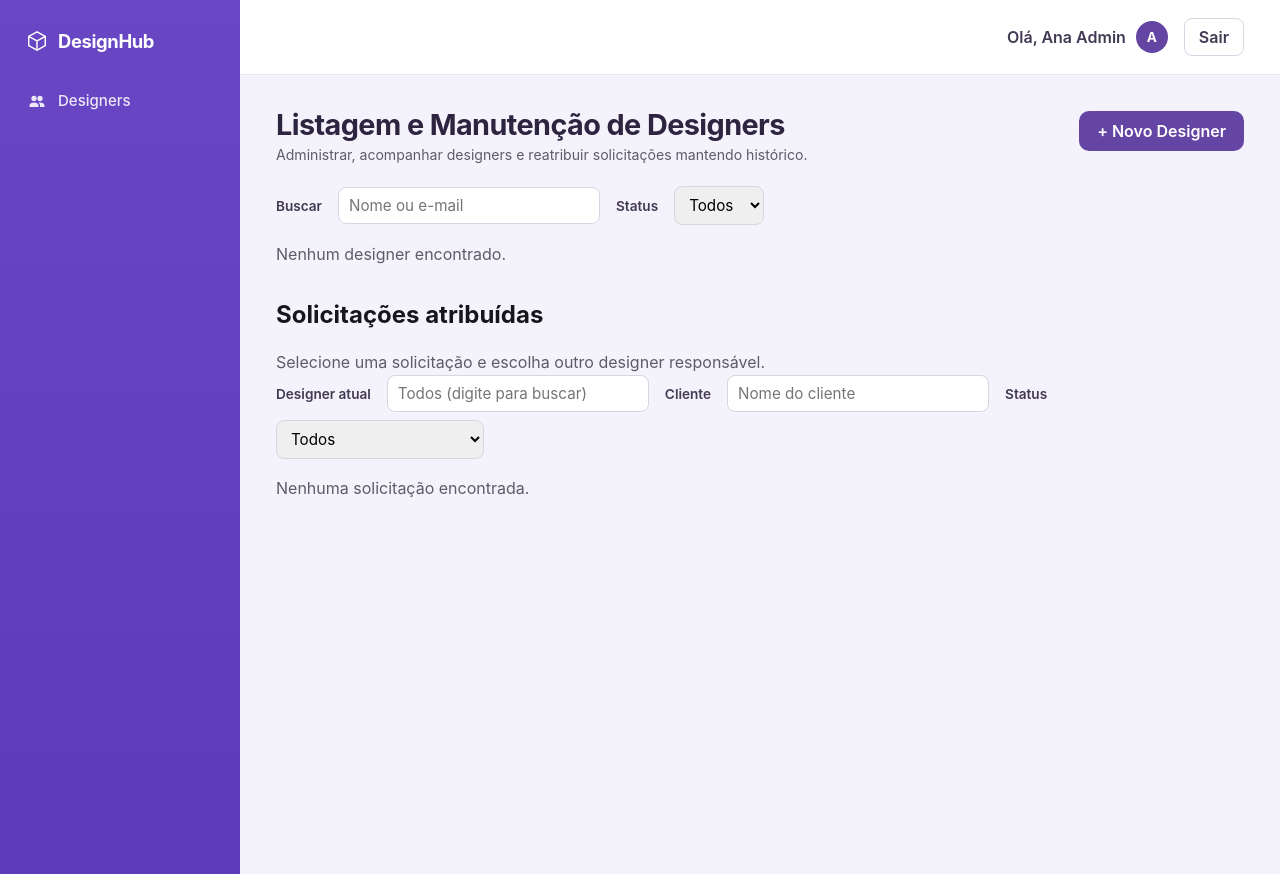
DesignersPage (RF001/RF015) › rejeita a criação quando a confirmação de senha não coincide (FIGURA 28)
Expected: the text "Nenhum designer encontrado." is shown, [276, 244, 506, 264]
Click the button "+ Novo Designer" at (1162, 131), box [1079, 111, 1244, 151]
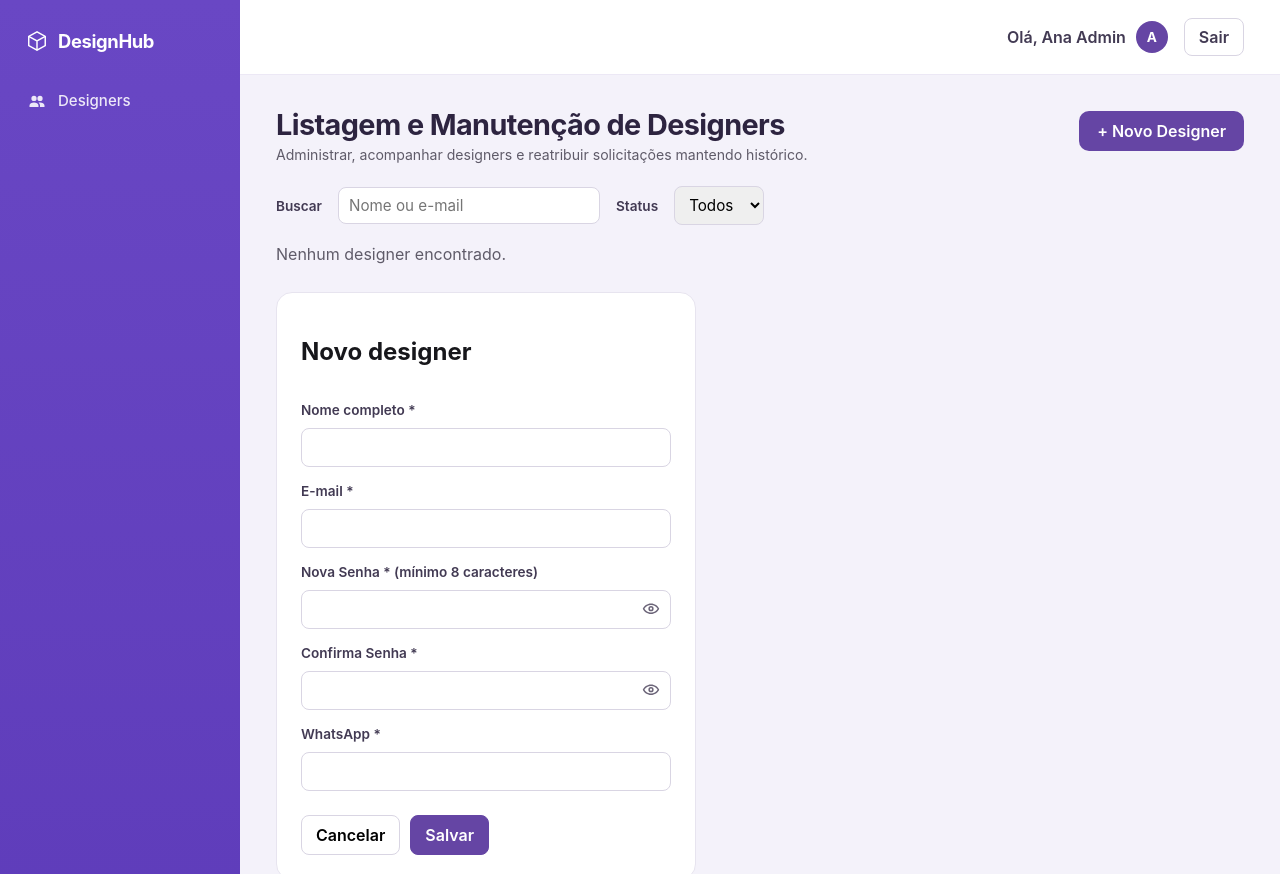
Type "Dora Designer" into the field labelled "Nome completo *" at (486, 447), box [301, 428, 671, 467]
Type "dora@exemplo.com" into the field labelled "E-mail *" at (486, 528), box [301, 509, 671, 548]
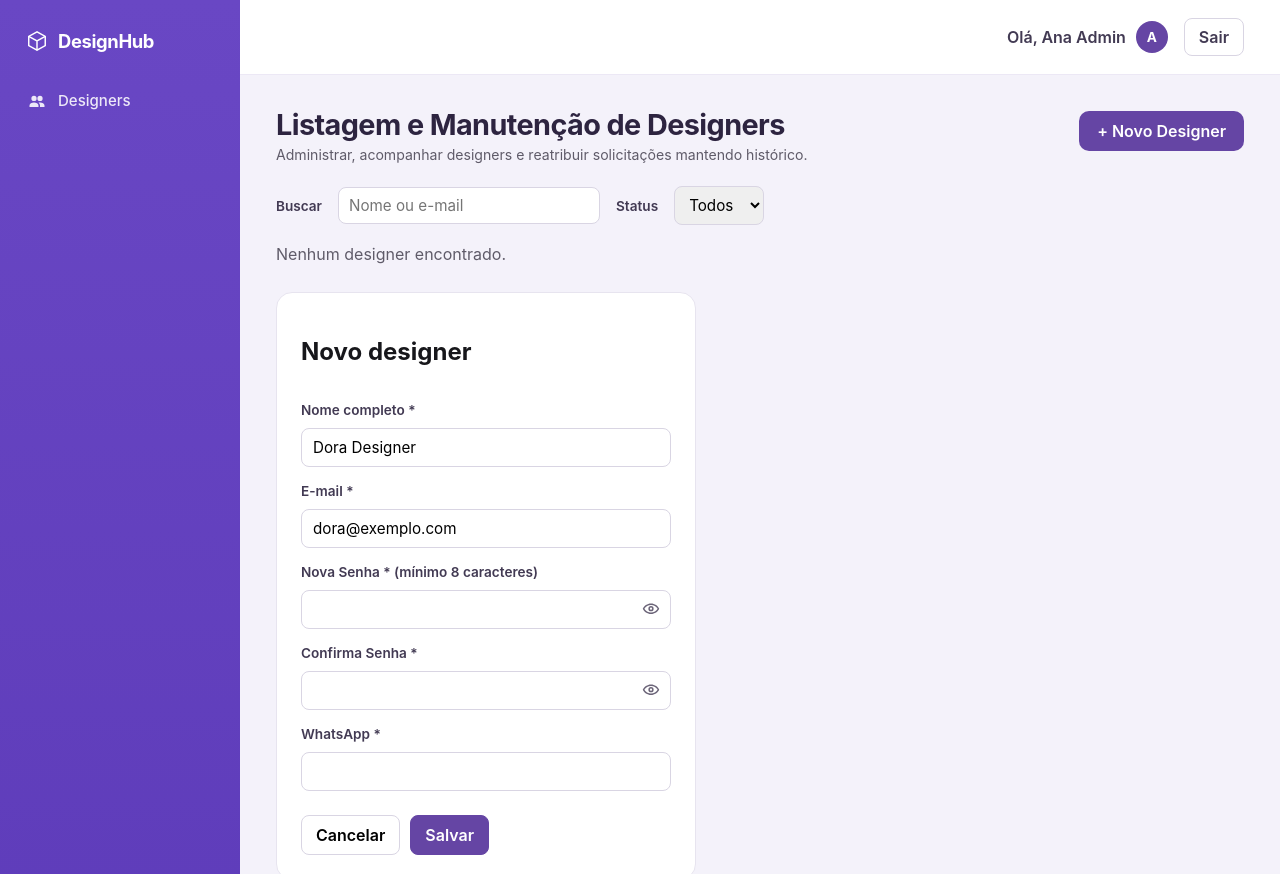
Type "5511999999999" into the field labelled "WhatsApp *" at (486, 771), box [301, 752, 671, 791]
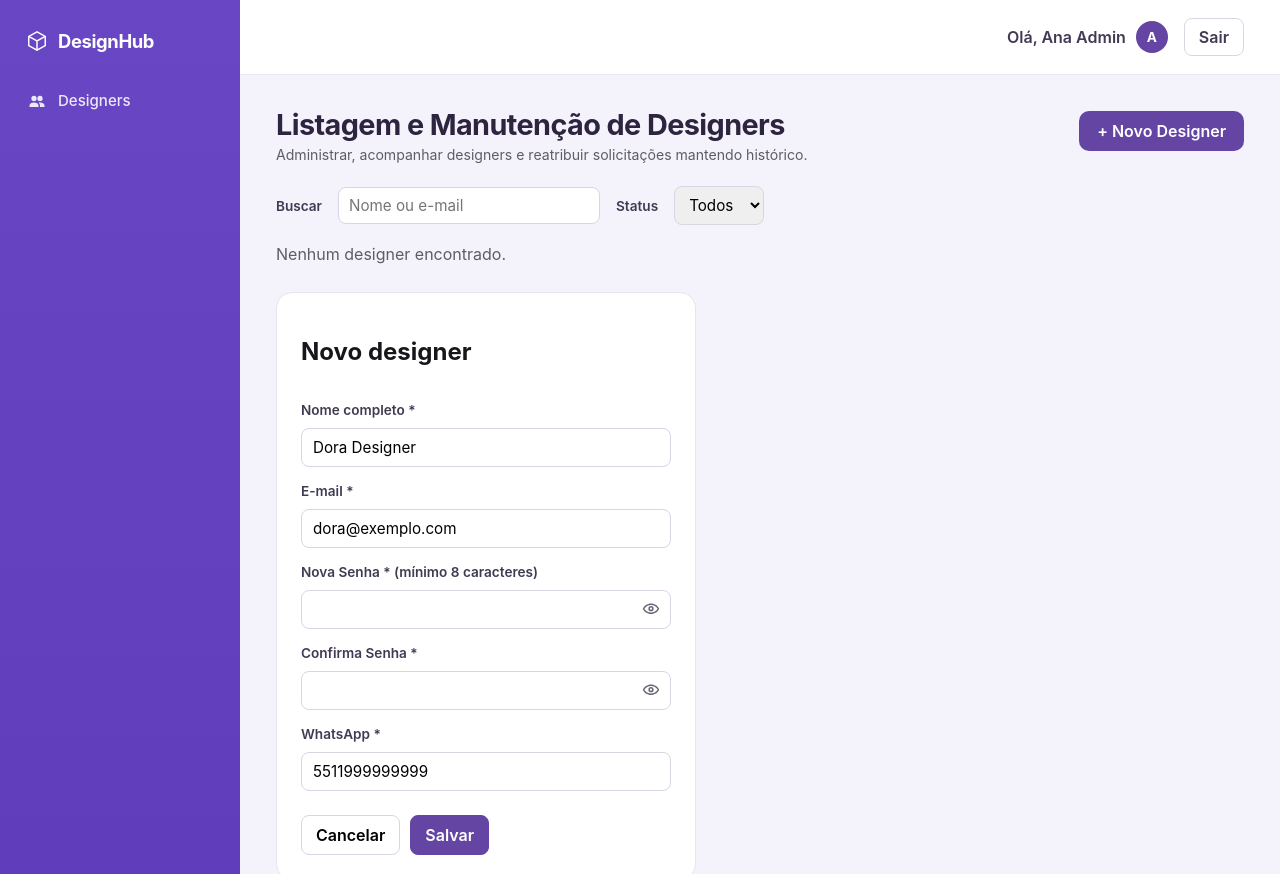
Type "senha-forte-123" into the password field labelled "Nova Senha * (mínimo 8 caracteres)" at (486, 609), box [301, 590, 671, 629]
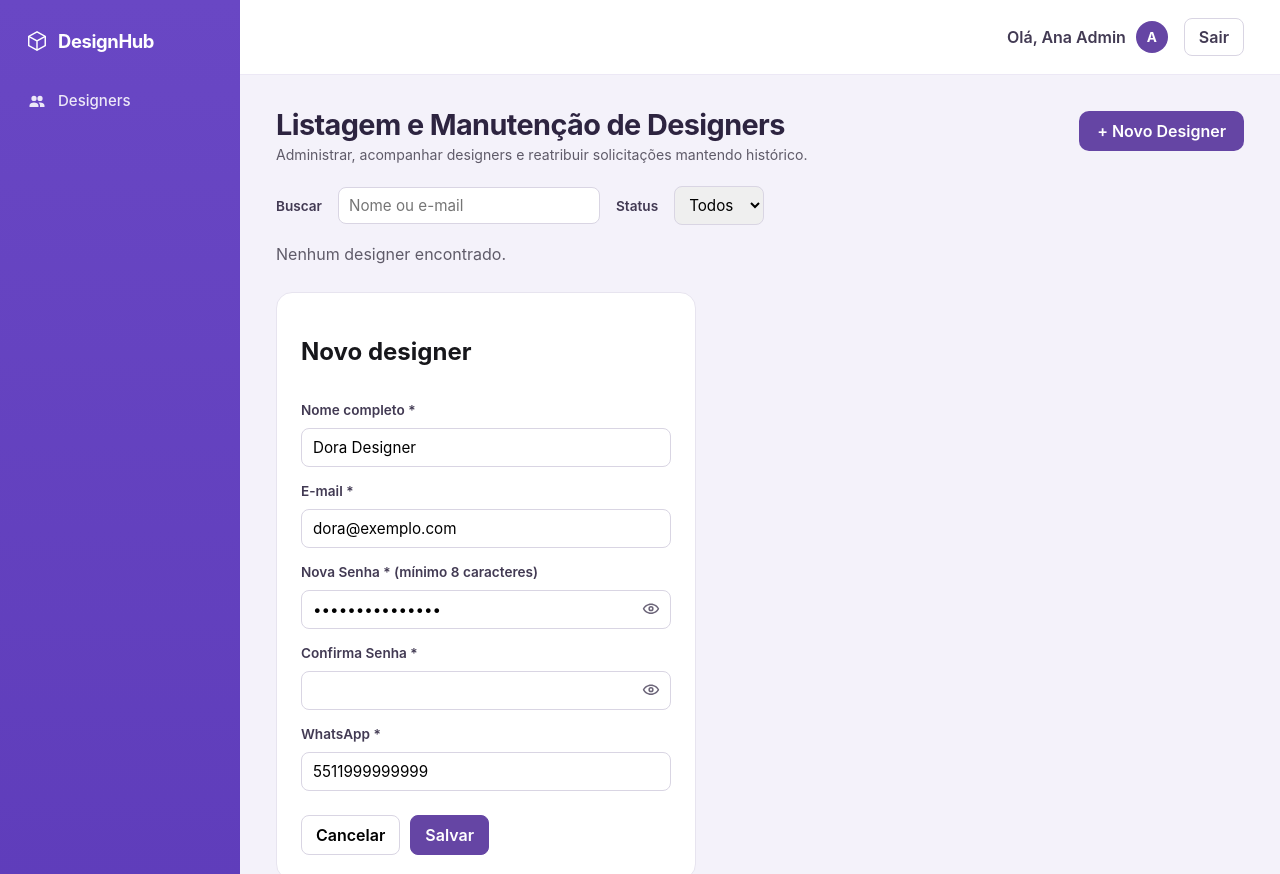
Type "outra-senha" into the password field labelled "Confirma Senha *" at (486, 690), box [301, 671, 671, 710]
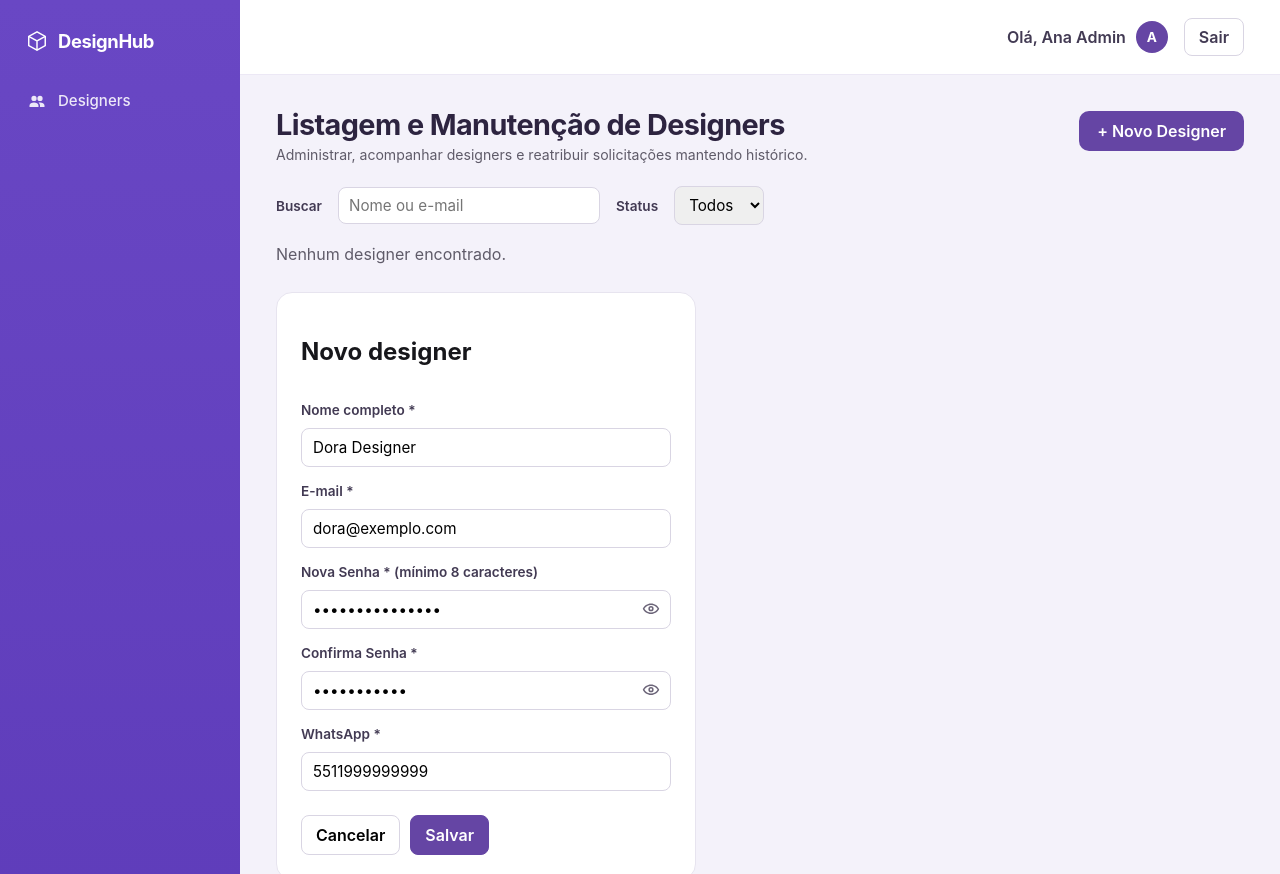
Click the button "Salvar" at (450, 835), box [410, 815, 489, 855]
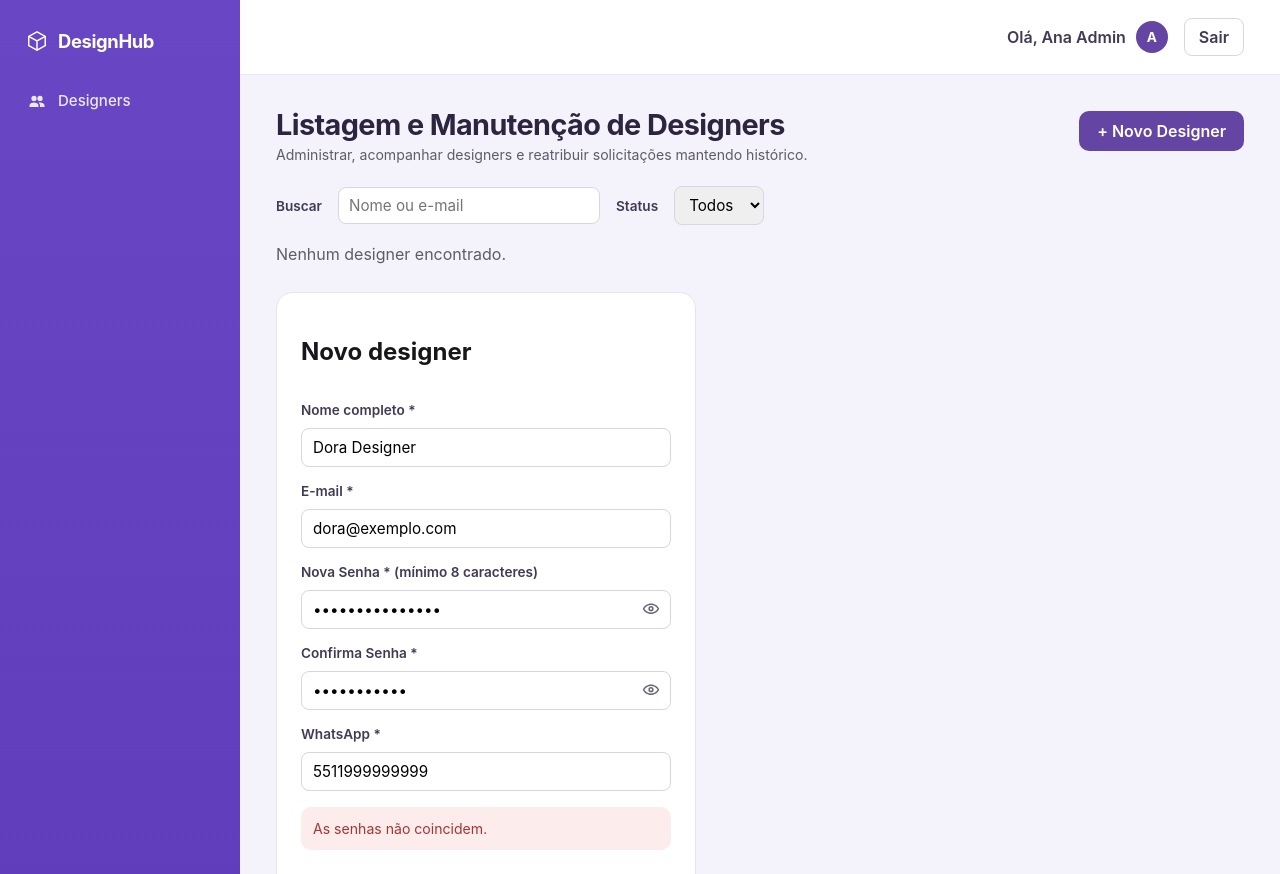
Now the text "As senhas não coincidem." is shown, box [301, 807, 671, 850]
